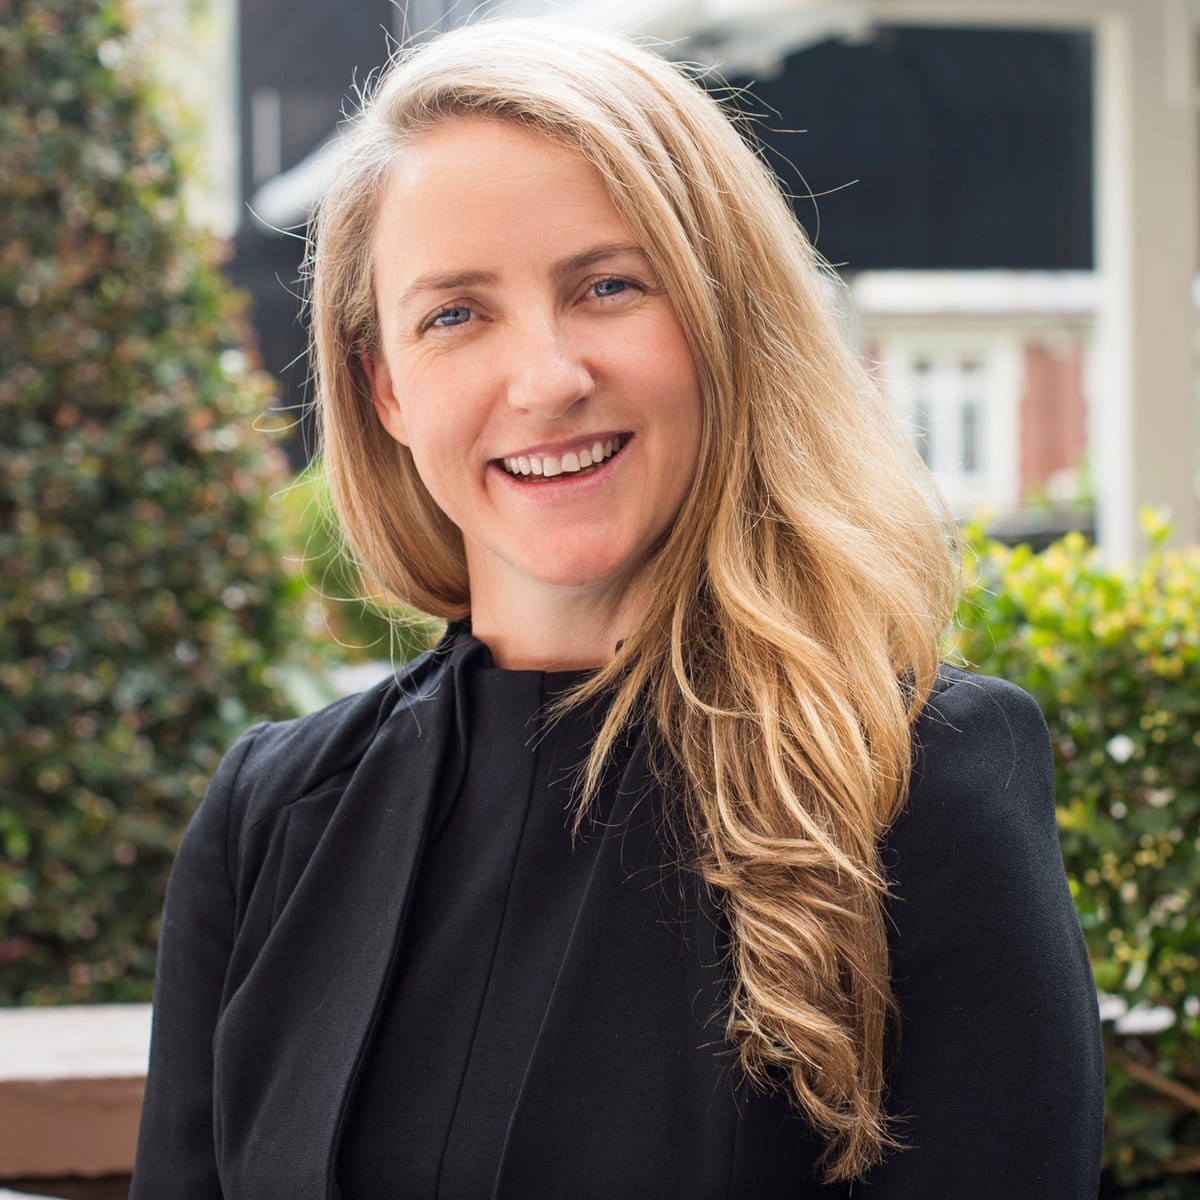woman: (312, 27, 819, 583)
